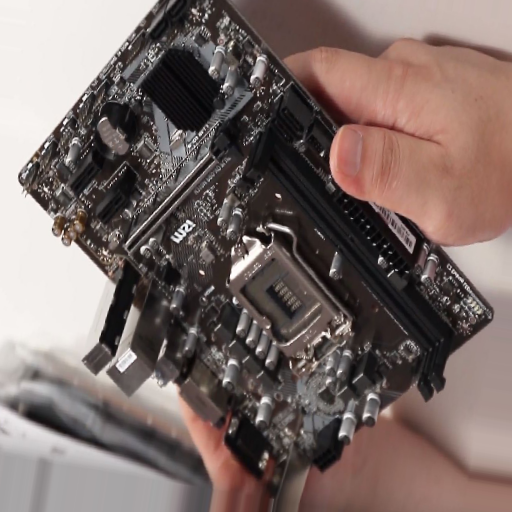CPU: (228, 236, 352, 376)
GPU: (121, 134, 243, 257)
MOTHERBOARD: (21, 2, 494, 476)
RAM: (251, 125, 452, 392)
